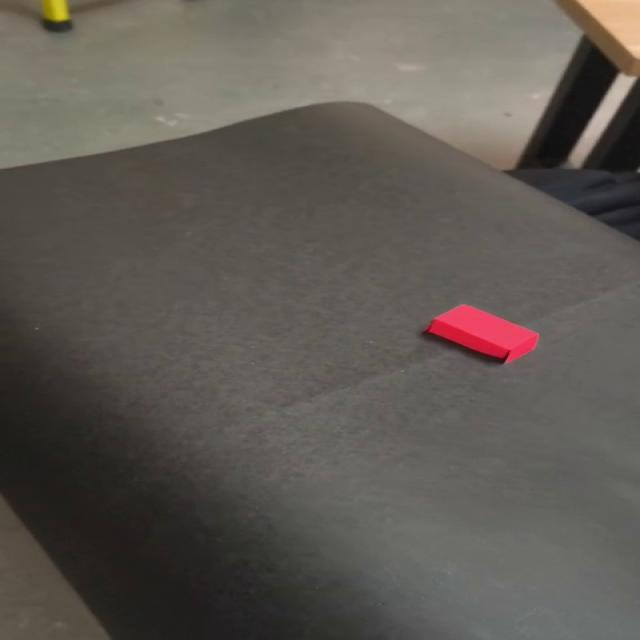red block: (422, 303, 538, 364)
